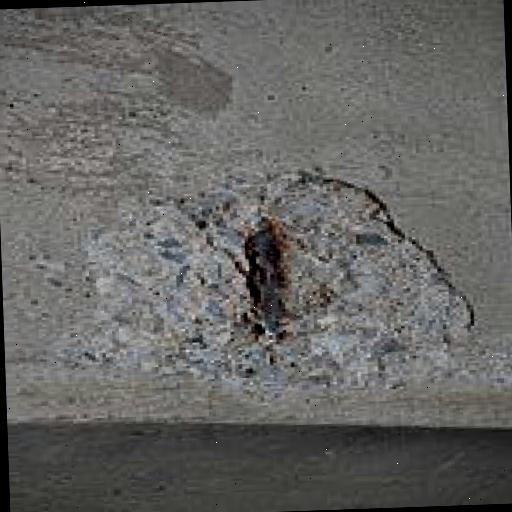spalling: (82, 175, 467, 386)
